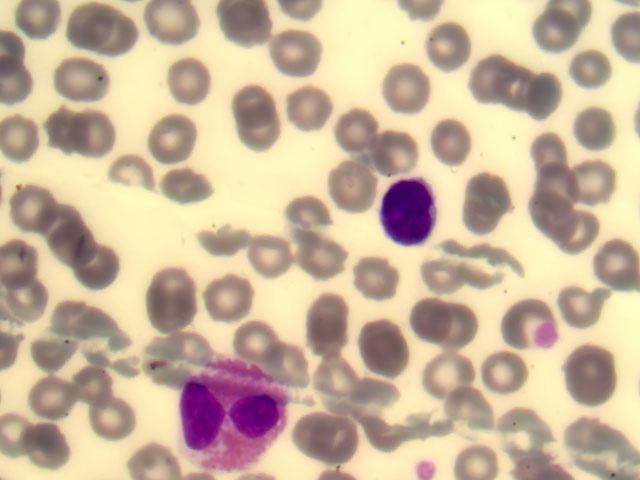RBC: (85, 14, 134, 59), (61, 55, 110, 100), (43, 106, 92, 151), (66, 111, 115, 156), (107, 148, 156, 193), (143, 115, 192, 160), (164, 59, 213, 104), (150, 1, 199, 46), (221, 1, 270, 46), (271, 28, 320, 73), (229, 77, 278, 122), (227, 113, 276, 158), (281, 89, 330, 134), (335, 106, 384, 151), (369, 128, 418, 173), (330, 163, 379, 208), (286, 189, 335, 234), (166, 167, 215, 212), (84, 249, 133, 294), (51, 224, 100, 269), (39, 196, 88, 241), (15, 179, 64, 224), (1, 236, 50, 281), (41, 294, 90, 339), (33, 327, 82, 372), (25, 371, 74, 416), (26, 421, 75, 466), (64, 360, 113, 405), (88, 398, 137, 443), (124, 435, 173, 480), (141, 338, 190, 383), (167, 320, 216, 365), (149, 275, 198, 320), (214, 274, 263, 319), (198, 218, 247, 263), (250, 231, 299, 276), (294, 229, 343, 274), (350, 255, 399, 300), (306, 297, 355, 342), (234, 317, 283, 362), (358, 322, 407, 367), (315, 358, 364, 403), (343, 372, 392, 417), (312, 417, 361, 462), (406, 298, 455, 343), (434, 297, 483, 342), (425, 351, 474, 396), (440, 382, 489, 427), (474, 348, 523, 393), (565, 351, 614, 396), (561, 284, 610, 329), (591, 248, 640, 293), (552, 215, 601, 260), (529, 191, 578, 236), (537, 167, 586, 212), (570, 161, 619, 206), (530, 130, 579, 175), (577, 101, 626, 146), (565, 46, 614, 91), (518, 69, 567, 114), (494, 60, 543, 105), (469, 54, 518, 99), (425, 22, 474, 67), (385, 71, 434, 116), (424, 121, 473, 166), (457, 177, 506, 222), (533, 8, 582, 53), (1, 111, 49, 156), (14, 1, 63, 45), (60, 1, 109, 45)
WBC: (187, 357, 288, 467), (383, 179, 437, 248), (536, 321, 563, 348), (414, 457, 443, 480)
